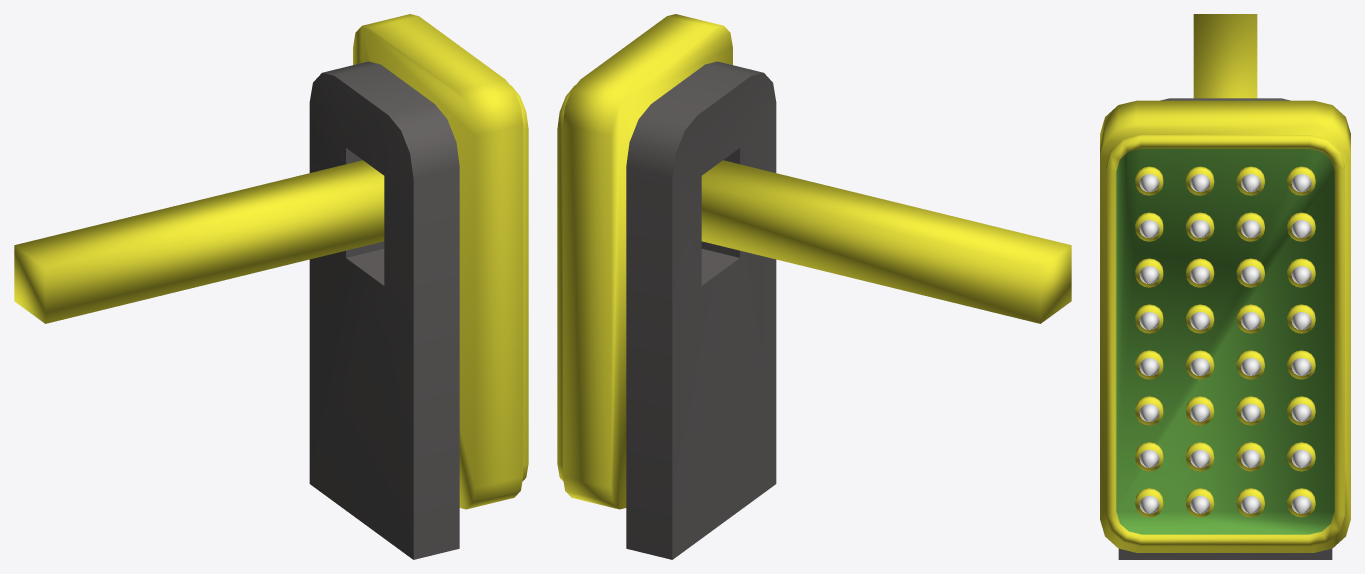
Rendered from Obstacle 9 V2.fbx.
3 views of the same model, side by side, from view 1: azimuth 30°, elevation 25°; view 2: azimuth 150°, elevation 25°; view 3: azimuth 270°, elevation 25° (orthographic). The views are drawn at different scales.
Parts seen in each view (by area): view 1: O9 Part 1, O9 Part 2; view 2: O9 Part 1, O9 Part 2; view 3: O9 Part 1, O9 Part 2.
Boxes of the visible parts, x1,y1,x2,y2 form: O9 Part 1: [14, 14, 528, 509]; O9 Part 2: [309, 61, 459, 559]; O9 Part 1: [557, 14, 1071, 509]; O9 Part 2: [626, 61, 776, 559]; O9 Part 1: [1100, 14, 1350, 552]; O9 Part 2: [1118, 98, 1332, 559].
Size of the model in its own units: 142 by 133 by 65.29.
Materials: 1 (1 with a texture image).
